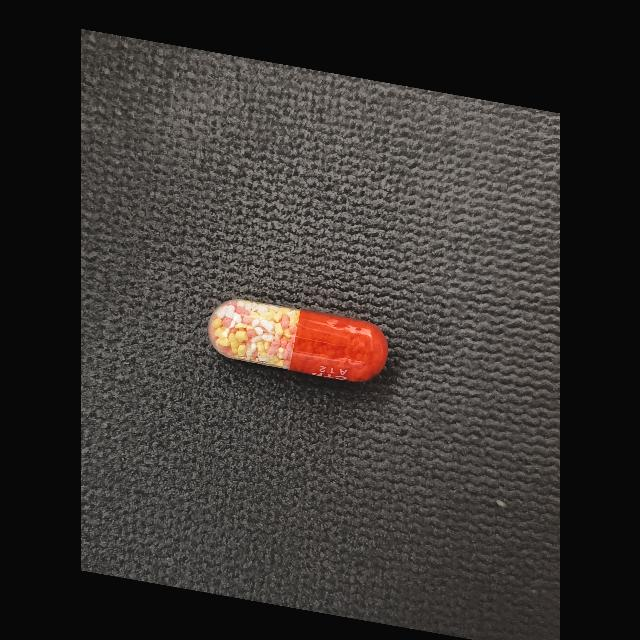Intact Capsule: (208, 299, 388, 382)
